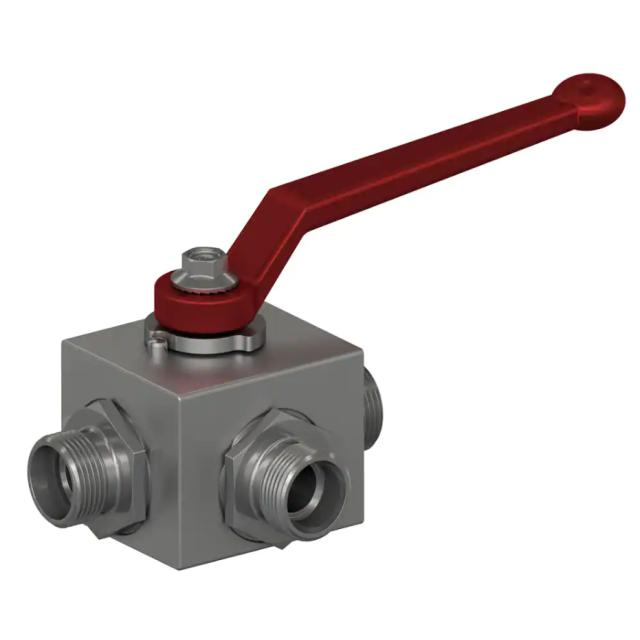Lever Handle Valve Threaded: (115, 61, 633, 386)
